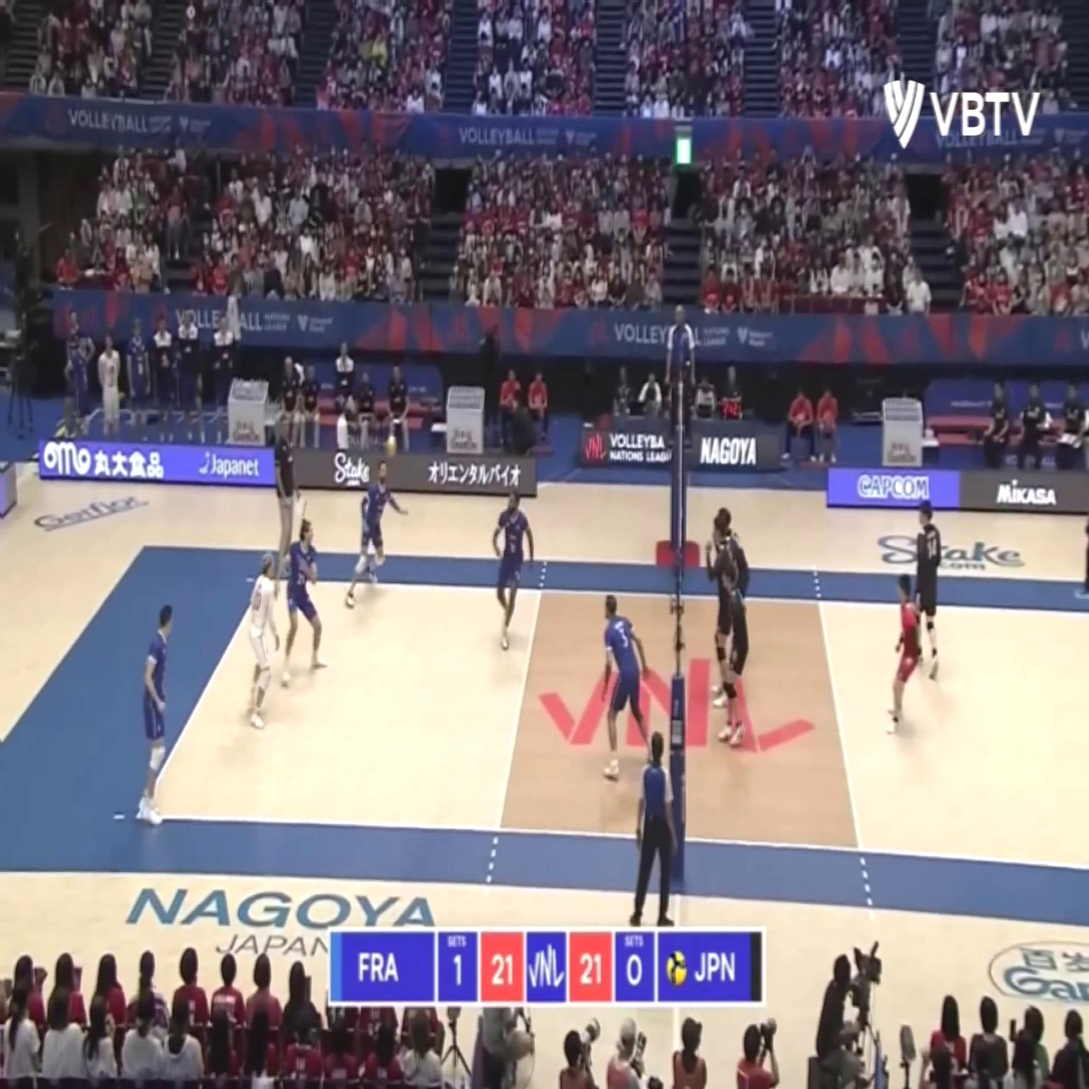ball: (383, 434, 396, 458)
